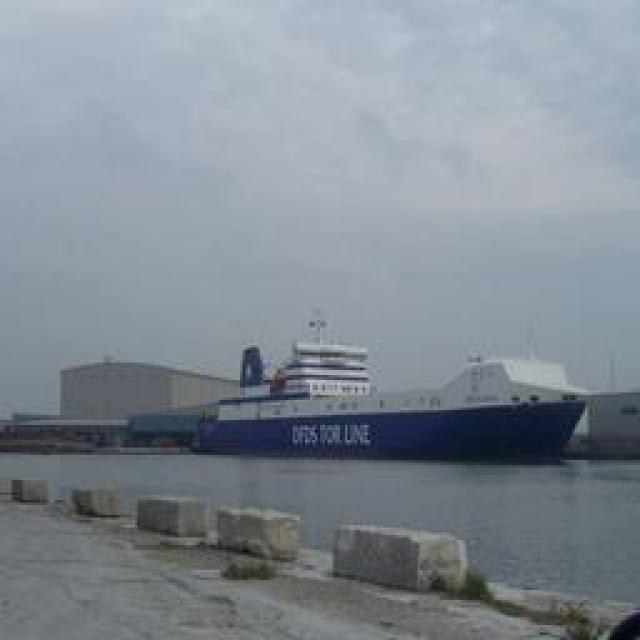Ship: (114, 335, 599, 460)
